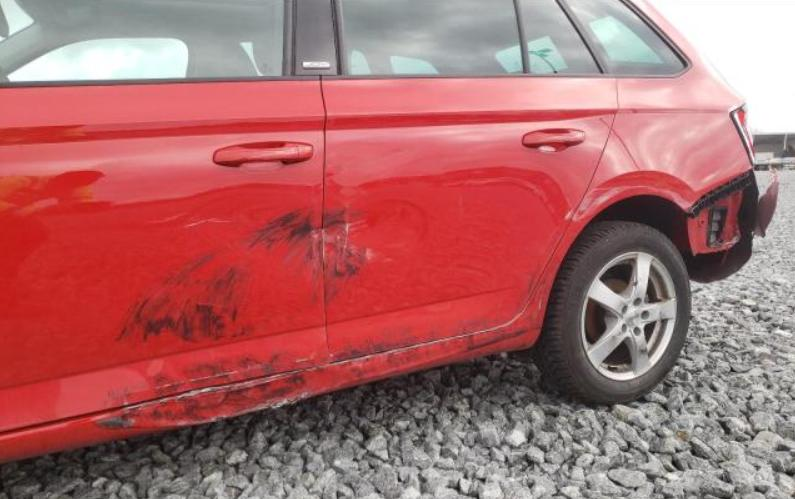Broken part: (0, 359, 332, 441), (679, 159, 780, 287)
Missing part: (736, 101, 780, 190)
Paint chip: (209, 396, 309, 421)
Scratch: (235, 190, 468, 308), (77, 368, 326, 440), (108, 240, 257, 356), (95, 337, 328, 411), (331, 318, 537, 389), (331, 309, 514, 364), (523, 264, 557, 324), (518, 256, 547, 302), (188, 216, 229, 225)
